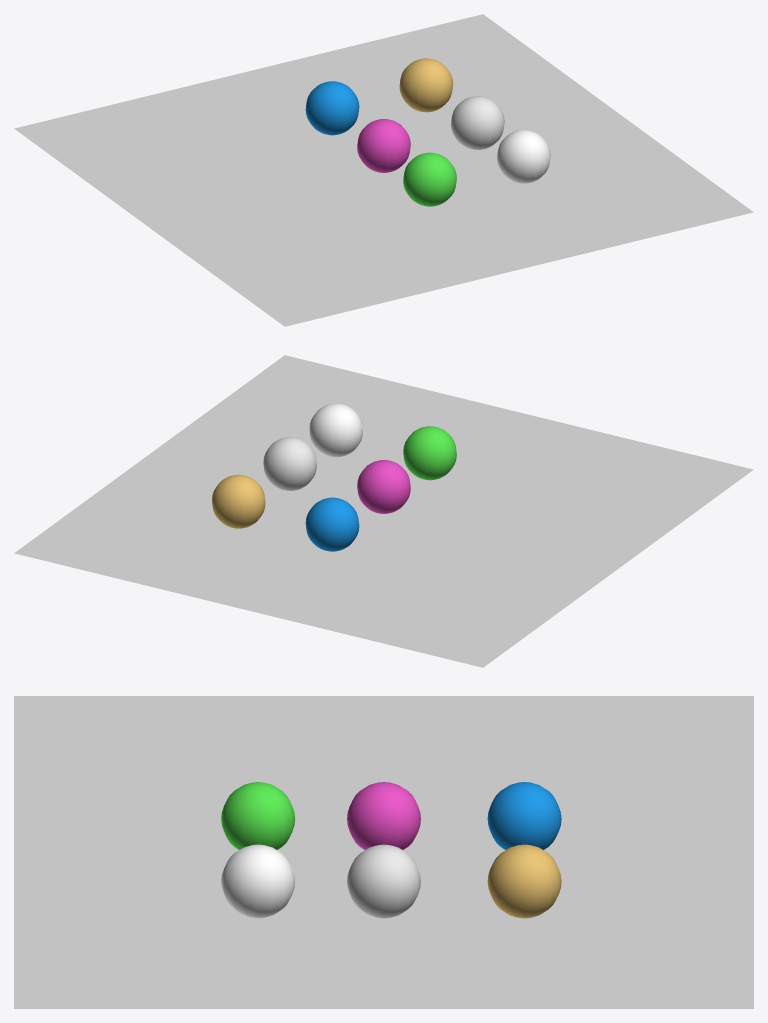
Rendered from pbr.glb.
The picture shows the model from 3 angles, top to bottom: view 1: azimuth 30°, elevation 25°; view 2: azimuth 150°, elevation 25°; view 3: azimuth 270°, elevation 25°; orthographic projection. The views are drawn at different scales.
Visible parts, largest first — view 1: Plane, Sphere.002, Sphere.004, Sphere.001, Sphere, Sphere.003, Sphere.005; view 2: Plane, Sphere.002, Sphere.003, Sphere, Sphere.004, Sphere.001, Sphere.005; view 3: Plane, Sphere, Sphere.003, Sphere.004, Sphere.001, Sphere.005, Sphere.002.
Boxes of the visible parts, x1,y1,x2,y2 form: Plane: (14, 14, 753, 326); Sphere.002: (305, 81, 359, 135); Sphere.004: (451, 96, 504, 149); Sphere.001: (357, 119, 410, 172); Sphere: (497, 129, 550, 183); Sphere.003: (399, 58, 453, 112); Sphere.005: (403, 152, 456, 206); Plane: (14, 355, 753, 667); Sphere.002: (305, 497, 359, 551); Sphere.003: (212, 474, 265, 528); Sphere: (309, 403, 362, 457); Sphere.004: (263, 437, 316, 490); Sphere.001: (357, 460, 410, 513); Sphere.005: (403, 426, 456, 480); Plane: (14, 696, 753, 1008); Sphere: (221, 844, 294, 918); Sphere.003: (487, 844, 561, 918); Sphere.004: (347, 844, 420, 918); Sphere.001: (347, 782, 420, 849); Sphere.005: (221, 782, 294, 849); Sphere.002: (487, 782, 561, 849).
Bounding box in the file's own units: 10 × 1.01 × 10.
